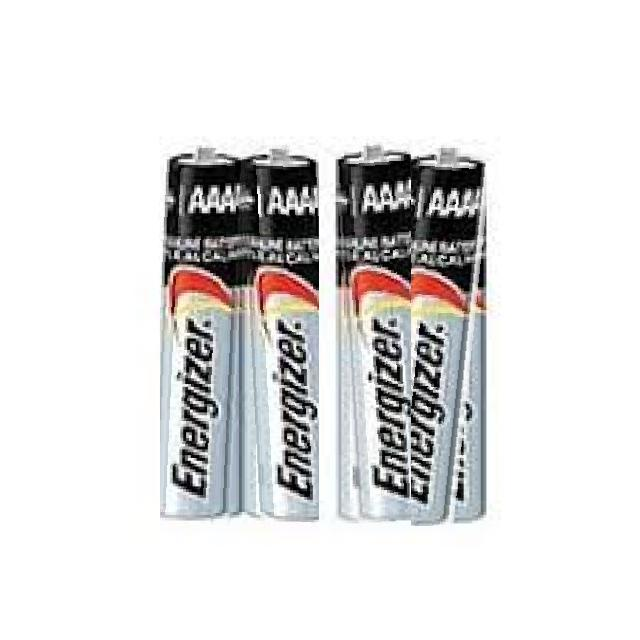battery: (160, 138, 247, 526), (336, 140, 416, 530), (411, 148, 492, 526), (242, 145, 320, 522)
